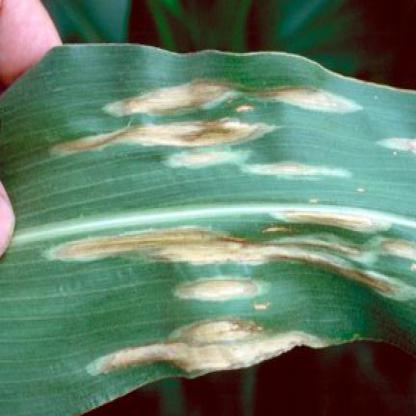corn leaf blight: (22, 53, 415, 379)
